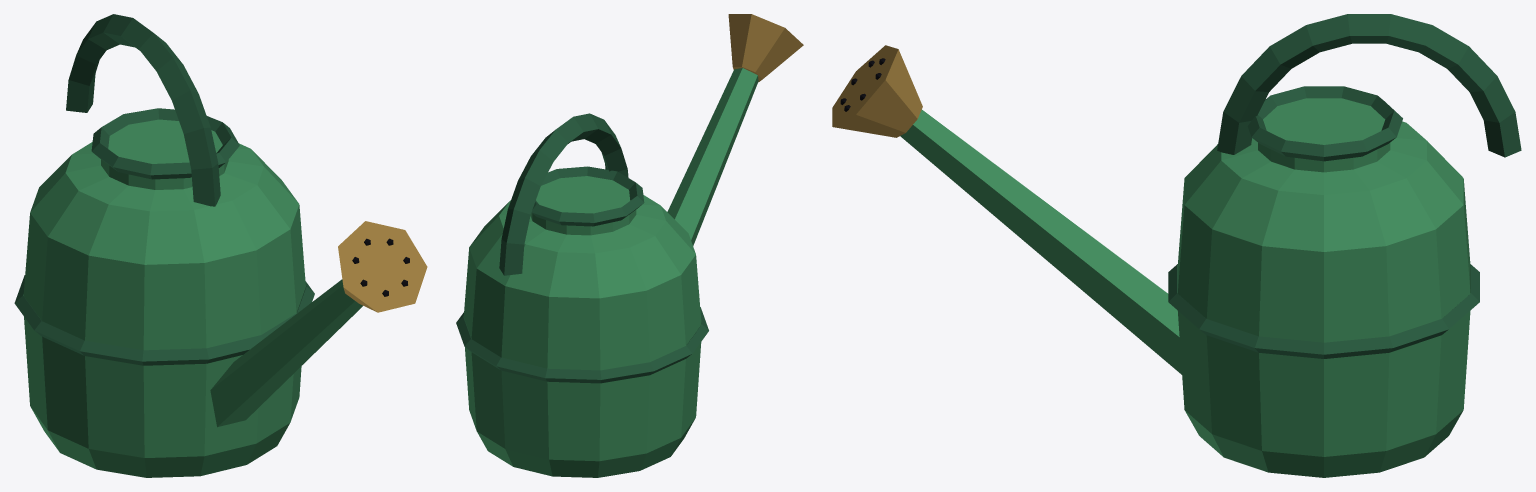
The model's file is regadera.glb.
3 renders of one model, left to right at view 1: azimuth 30°, elevation 25°; view 2: azimuth 150°, elevation 25°; view 3: azimuth 270°, elevation 25°, orthographic. The views are drawn at different scales.
Visible parts, largest first — view 1: regadera; view 2: regadera; view 3: regadera.
Boxes of the visible parts, left/top/right/bottom form: regadera: left=14, top=14, right=427, bottom=477; regadera: left=456, top=14, right=803, bottom=477; regadera: left=832, top=14, right=1521, bottom=477.
Bounding box in the file's own units: 0.212 × 0.3 × 0.4572.
